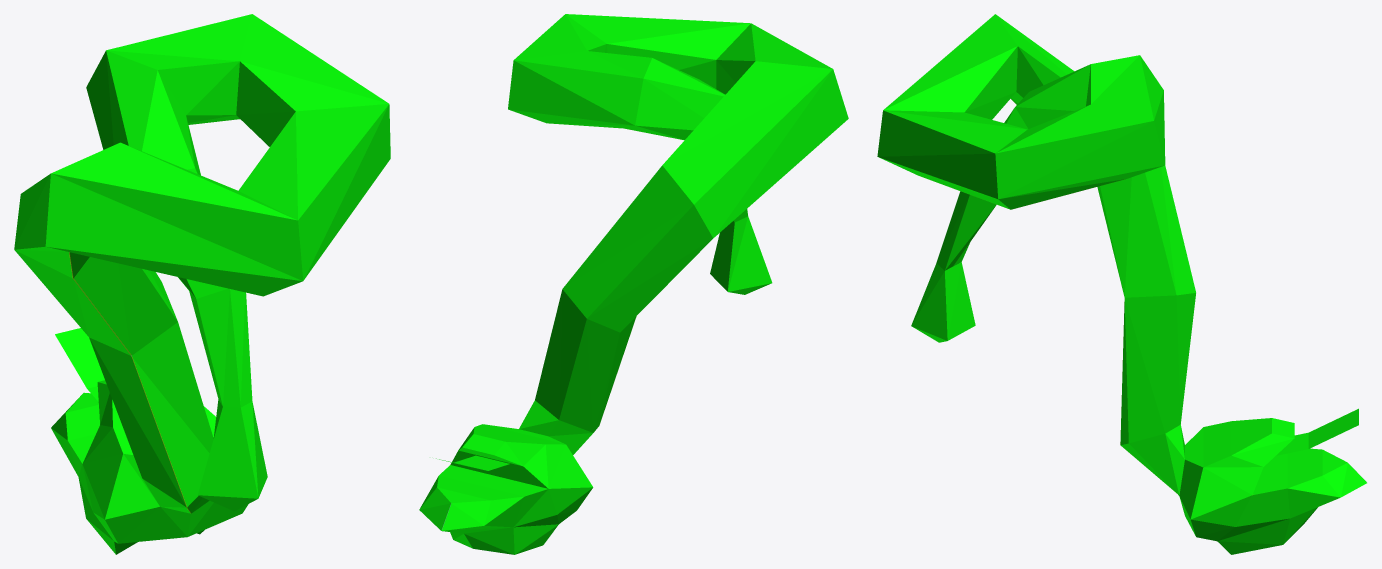
The model's file is RATTLE.obj.
3 views of the same model, side by side, from view 1: azimuth 30°, elevation 25°; view 2: azimuth 150°, elevation 25°; view 3: azimuth 270°, elevation 25° (orthographic). The views are drawn at different scales.
Parts seen in each view (by area): view 1: RATTLE_node01_face00, RATTLE_node14_face02, RATTLE_node02_face00, RATTLE_node06_face01, RATTLE_node14_face01, RATTLE_node14_face03, RATTLE_node14_face04, RATTLE_node03_face01, RATTLE_node00_face00, RATTLE_node07_face00, RATTLE_node06_face00, RATTLE_node14_face05 (+4 smaller); view 2: RATTLE_node01_face00, RATTLE_node00_face00, RATTLE_node14_face01, RATTLE_node06_face01, RATTLE_node02_face00, RATTLE_node14_face03, RATTLE_node14_face02, RATTLE_node03_face01, RATTLE_node14_face05, RATTLE_node05_face00, RATTLE_node14_face00, RATTLE_node06_face00; view 3: RATTLE_node01_face00, RATTLE_node06_face01, RATTLE_node02_face00, RATTLE_node14_face01, RATTLE_node14_face02, RATTLE_node03_face01, RATTLE_node14_face03, RATTLE_node05_face00, RATTLE_node14_face05, RATTLE_node00_face00, RATTLE_node14_face00, RATTLE_node14_face04 (+2 smaller).
Part boxes in pixels (x1=…): RATTLE_node01_face00: x1=106, y1=14, x2=390, y2=280; RATTLE_node14_face02: x1=45, y1=142, x2=303, y2=296; RATTLE_node02_face00: x1=89, y1=322, x2=213, y2=507; RATTLE_node06_face01: x1=51, y1=396, x2=248, y2=554; RATTLE_node14_face01: x1=14, y1=250, x2=177, y2=355; RATTLE_node14_face03: x1=86, y1=50, x2=200, y2=175; RATTLE_node14_face04: x1=189, y1=288, x2=252, y2=407; RATTLE_node03_face01: x1=198, y1=399, x2=267, y2=498; RATTLE_node00_face00: x1=14, y1=173, x2=89, y2=278; RATTLE_node07_face00: x1=55, y1=328, x2=104, y2=401; RATTLE_node06_face00: x1=66, y1=392, x2=213, y2=554; RATTLE_node14_face05: x1=82, y1=406, x2=216, y2=463; RATTLE_node01_face00: x1=508, y1=14, x2=750, y2=128; RATTLE_node00_face00: x1=662, y1=61, x2=848, y2=238; RATTLE_node14_face01: x1=562, y1=165, x2=712, y2=332; RATTLE_node06_face01: x1=419, y1=424, x2=593, y2=554; RATTLE_node02_face00: x1=535, y1=289, x2=636, y2=432; RATTLE_node14_face03: x1=624, y1=58, x2=725, y2=140; RATTLE_node14_face02: x1=716, y1=23, x2=832, y2=94; RATTLE_node03_face01: x1=710, y1=216, x2=772, y2=291; RATTLE_node14_face05: x1=450, y1=424, x2=565, y2=488; RATTLE_node05_face00: x1=458, y1=427, x2=545, y2=466; RATTLE_node14_face00: x1=519, y1=400, x2=592, y2=454; RATTLE_node06_face00: x1=437, y1=487, x2=592, y2=527; RATTLE_node01_face00: x1=877, y1=55, x2=1165, y2=209; RATTLE_node06_face01: x1=1179, y1=427, x2=1366, y2=554; RATTLE_node02_face00: x1=1120, y1=293, x2=1195, y2=445; RATTLE_node14_face01: x1=1097, y1=165, x2=1195, y2=297; RATTLE_node14_face02: x1=883, y1=14, x2=1017, y2=119; RATTLE_node03_face01: x1=911, y1=262, x2=975, y2=340; RATTLE_node14_face03: x1=1015, y1=64, x2=1090, y2=128; RATTLE_node05_face00: x1=1231, y1=418, x2=1294, y2=466; RATTLE_node14_face05: x1=1203, y1=421, x2=1263, y2=494; RATTLE_node00_face00: x1=996, y1=14, x2=1074, y2=104; RATTLE_node14_face00: x1=1121, y1=424, x2=1184, y2=495; RATTLE_node14_face04: x1=936, y1=191, x2=996, y2=270.
Bounding box in the file's own units: 228 × 347 × 349.
